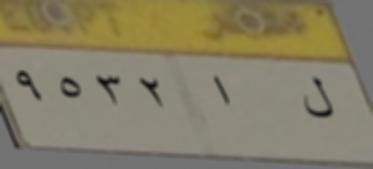2: (136, 70, 168, 114)
3: (93, 69, 126, 110)
5: (56, 68, 86, 106)
9: (12, 65, 46, 108)
alif: (203, 72, 234, 112)
laam: (294, 68, 338, 124)
